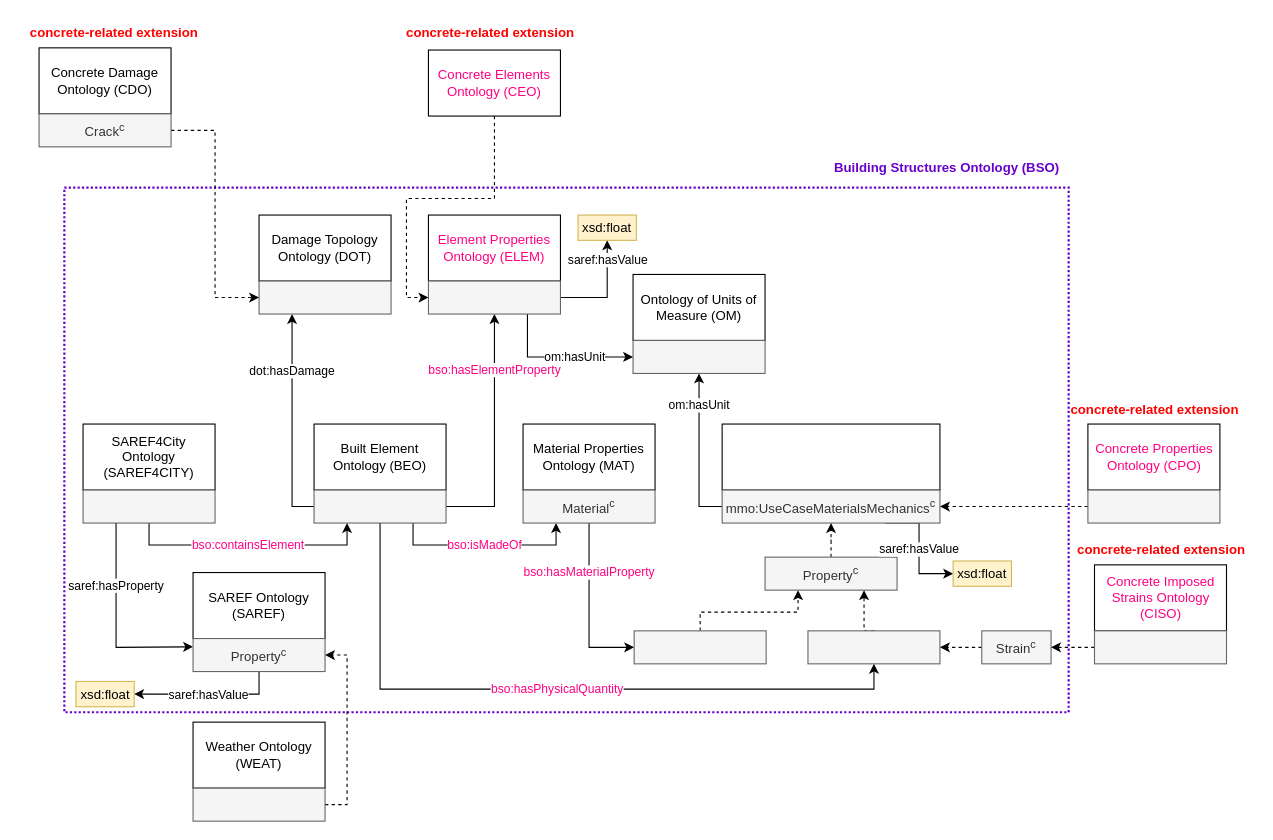
This 1273x840 diagram has some shape labels left out. The centre of each missing label's shape, as x and y in pixels:
Administrative Area c: (x=148, y=506)
Built Element c: (x=379, y=506)
ComponentQuantity c: (x=1153, y=506)
Damage c: (x=324, y=297)
ElementProperty c: (x=493, y=297)
ImposedStrain c: (x=1159, y=647)
MaterialProperty c: (x=699, y=647)
Materials Mechanics Ontology (MMO): (x=830, y=456)
PhysicalQuantity c: (x=873, y=647)
Unit c: (x=698, y=356)
Weather Property c: (x=258, y=804)
